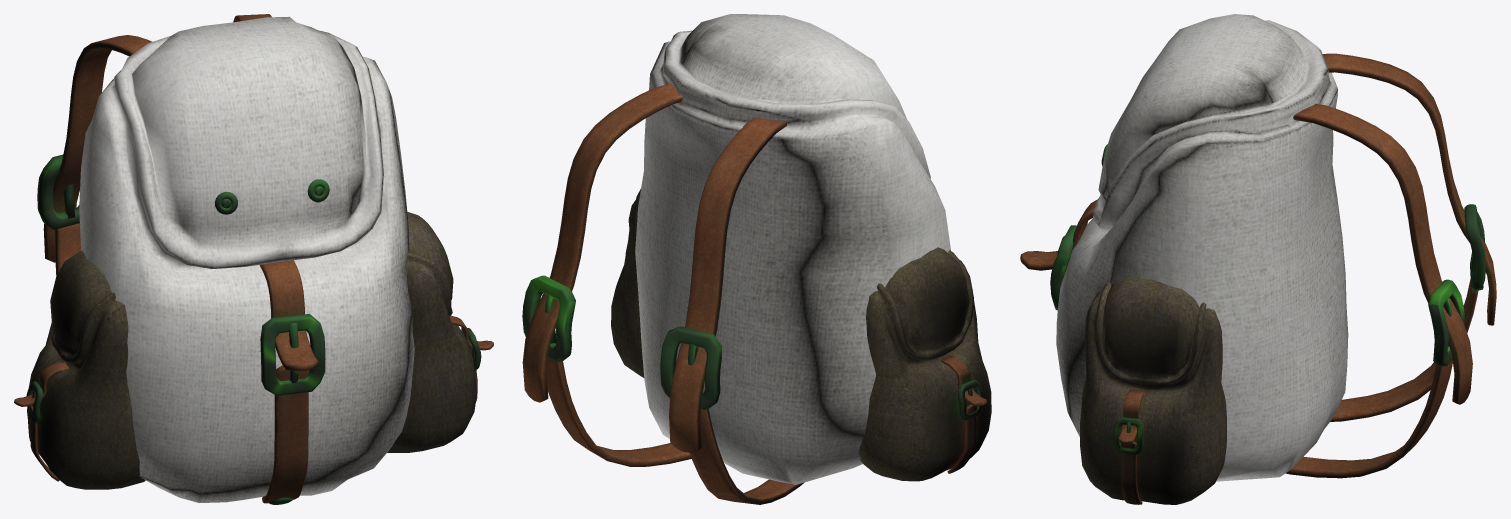
The model's file is backpack_bab.gltf.
3 views of the same model, side by side, from view 1: azimuth 30°, elevation 25°; view 2: azimuth 150°, elevation 25°; view 3: azimuth 270°, elevation 25° (orthographic). The views are drawn at different scales.
Visible parts, largest first — view 1: Plane001, Plane003, Loft001, Plane005; view 2: Plane001, Loft001, Plane003, Plane005; view 3: Plane001, Plane003, Loft001, Plane005.
Boxes of the visible parts, x1=… form: Plane001: x1=79, y1=16, x2=414, y2=502; Plane003: x1=27, y1=212, x2=476, y2=489; Loft001: x1=14, y1=14, x2=493, y2=503; Plane005: x1=26, y1=154, x2=481, y2=504; Plane001: x1=635, y1=14, x2=950, y2=484; Loft001: x1=522, y1=83, x2=986, y2=504; Plane003: x1=611, y1=189, x2=991, y2=481; Plane005: x1=522, y1=275, x2=982, y2=420; Plane001: x1=1056, y1=14, x2=1348, y2=481; Plane003: x1=1080, y1=276, x2=1226, y2=504; Loft001: x1=1020, y1=53, x2=1496, y2=504; Plane005: x1=1050, y1=144, x2=1486, y2=454.
Bounding box in the file's own units: 7.1 × 6.8 × 7.18.
4 materials, 4 textured.
